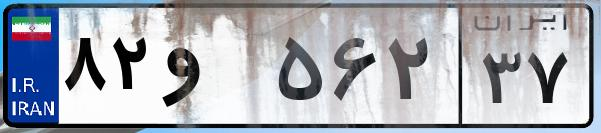2: (385, 28, 445, 110), (110, 28, 158, 98)
3: (475, 38, 525, 113)
5: (270, 28, 330, 110)
6: (330, 28, 385, 110)
7: (525, 38, 570, 115)
8: (57, 26, 110, 100)
و: (158, 20, 270, 120)
